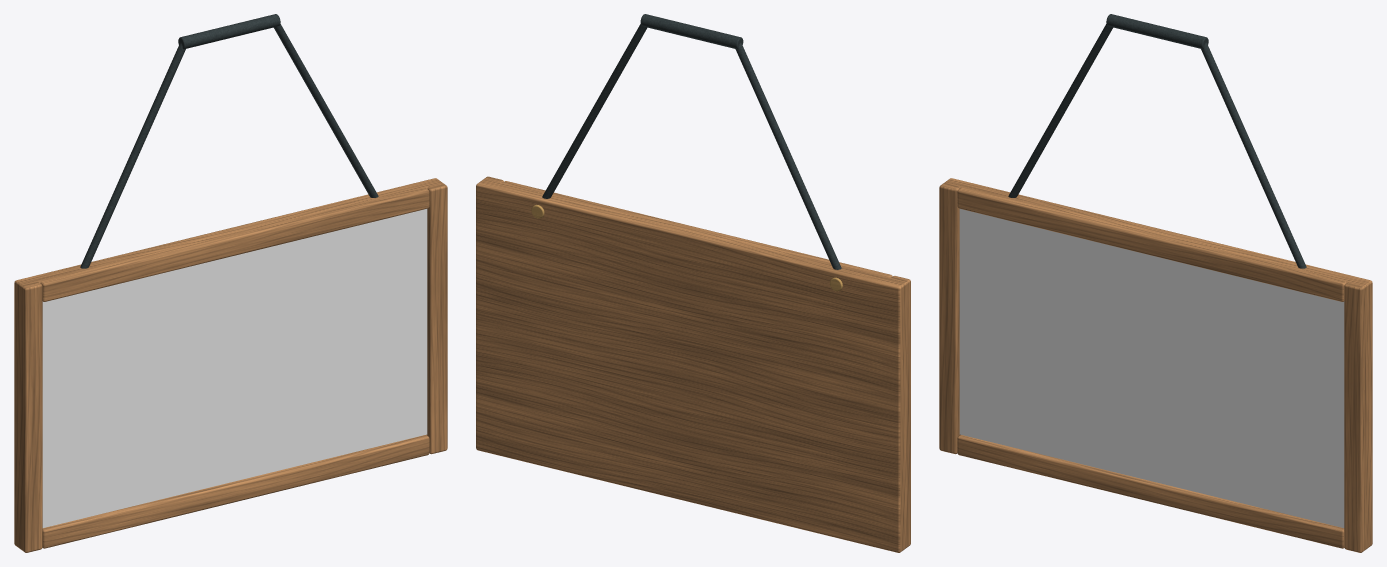
File: preview.glb
The picture shows the model from 3 angles, left to right: view 1: azimuth 30°, elevation 25°; view 2: azimuth 150°, elevation 25°; view 3: azimuth 330°, elevation 25°; orthographic projection.
Parts seen in each view (by area): view 1: Hanging; view 2: Hanging; view 3: Hanging.
Boxes of the visible parts, x1,y1,x2,y2 form: Hanging: [14, 14, 447, 552]; Hanging: [476, 14, 910, 552]; Hanging: [939, 14, 1372, 552].
Bounding box in the file's own units: 0.612 × 0.6515 × 0.0328.
Materials: 4 (3 with a texture image).
